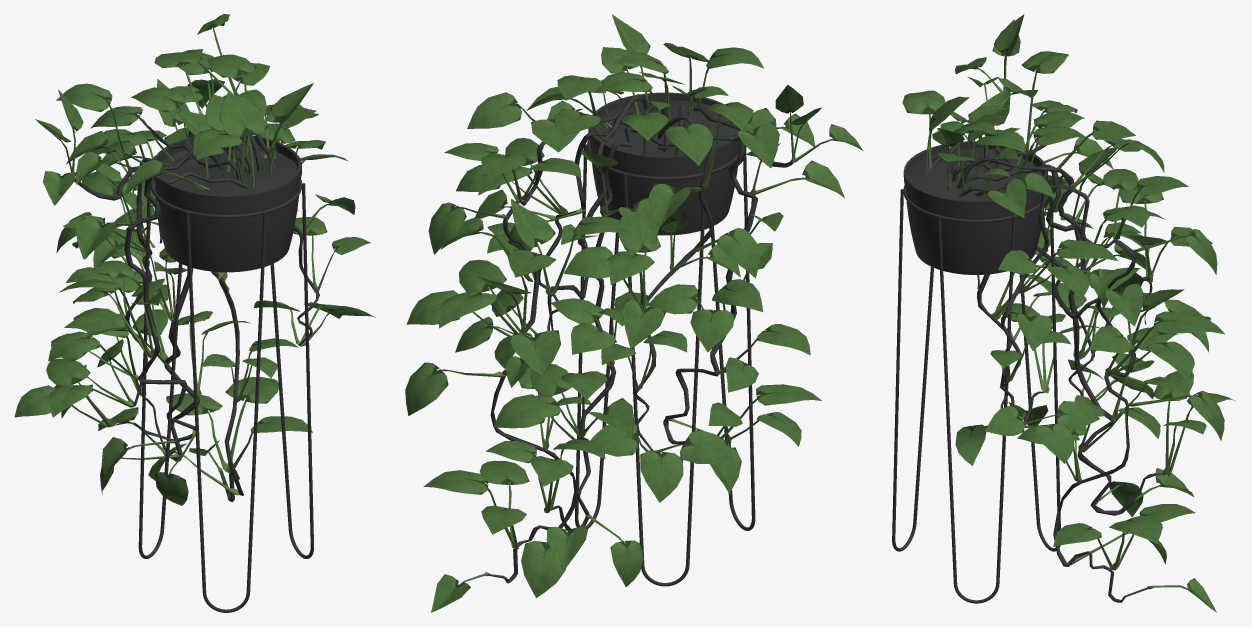
The model's file is SM_MERGED_heartLeafLarge.FBX.
3 views of the same model, side by side, from view 1: azimuth 30°, elevation 25°; view 2: azimuth 150°, elevation 25°; view 3: azimuth 270°, elevation 25° (orthographic). The views are drawn at different scales.
Parts seen in each view (by area): view 1: SM_MERGED_heartLeafLarge; view 2: SM_MERGED_heartLeafLarge; view 3: SM_MERGED_heartLeafLarge.
Part boxes in pixels (left/top/right/bottom): SM_MERGED_heartLeafLarge: left=14, top=14, right=375, bottom=612; SM_MERGED_heartLeafLarge: left=405, top=14, right=862, bottom=612; SM_MERGED_heartLeafLarge: left=892, top=14, right=1235, bottom=612.
Size of what is drawn, in the model's own units: 66.61 by 60.33 by 93.57.
